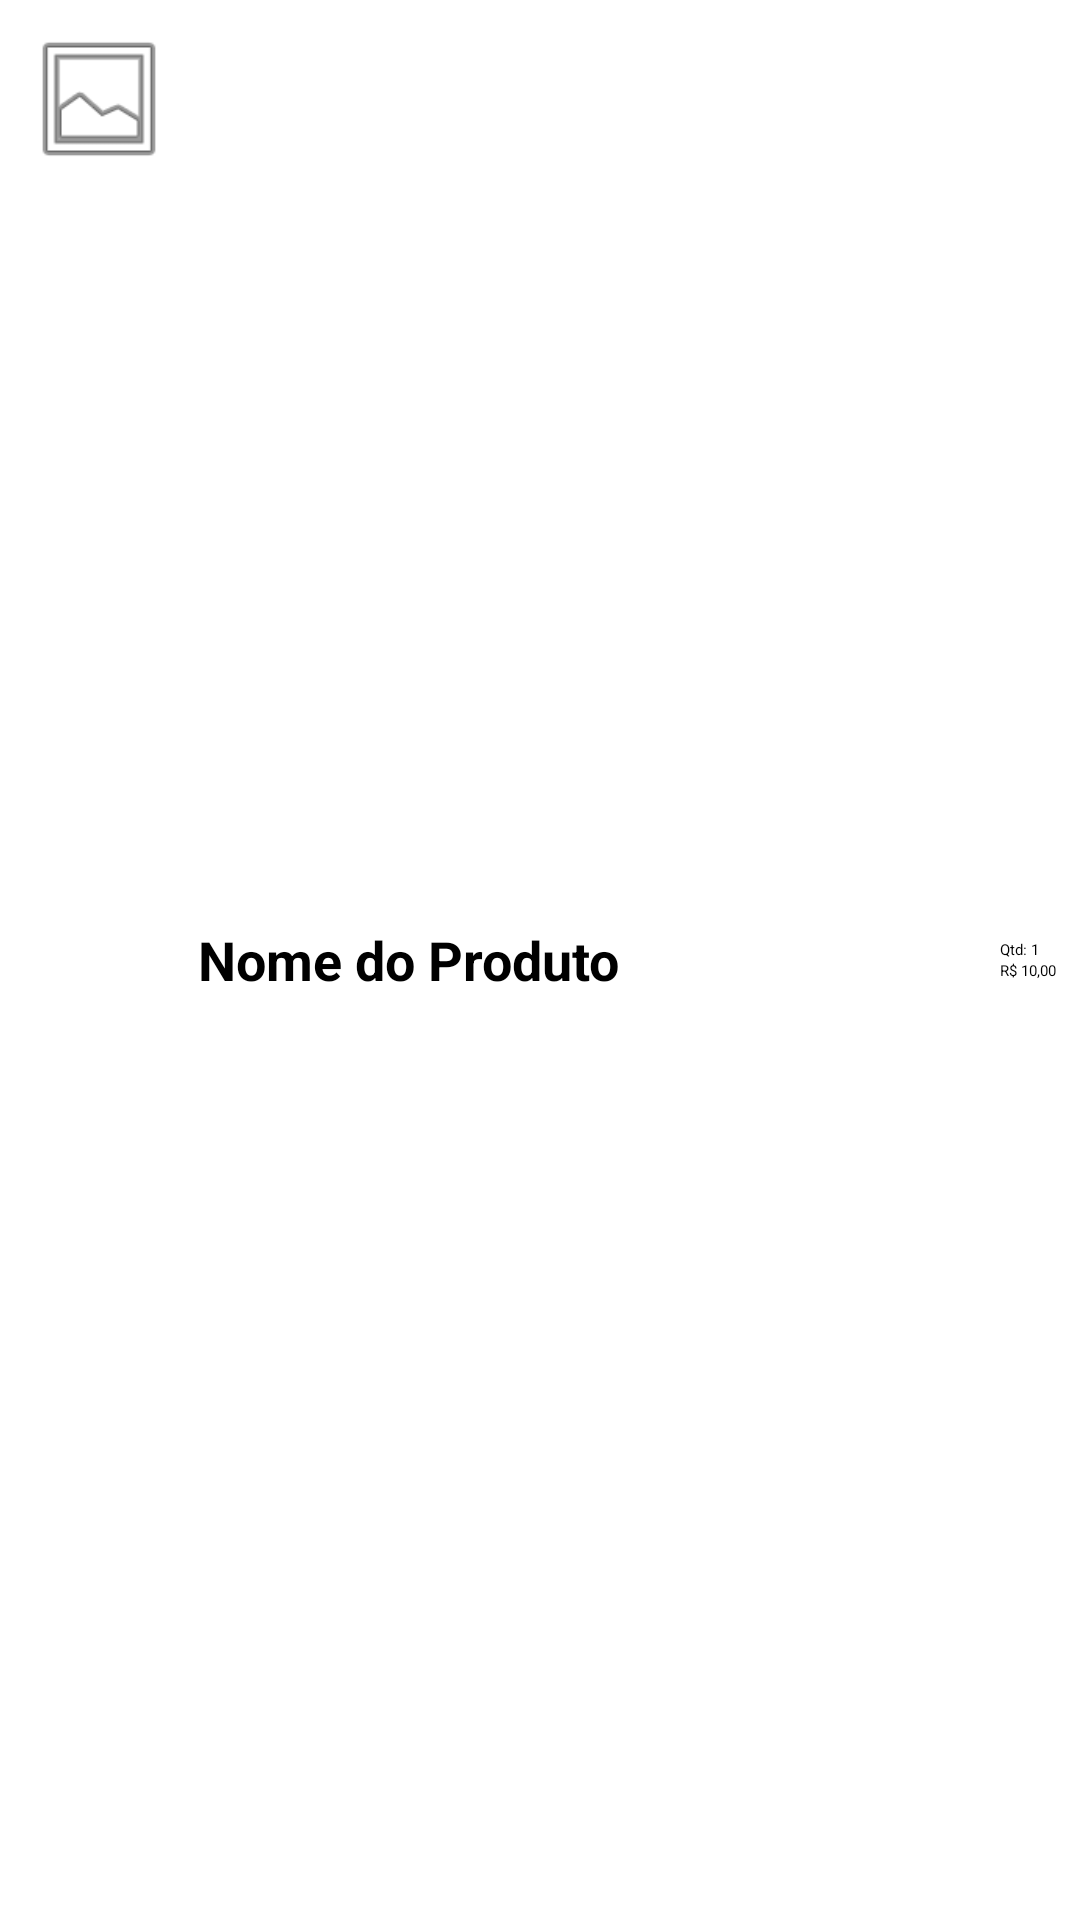

Where icons sit on this 1080×1920 app screen, as (x1, y1, x2, y2):
gallery: (42, 42, 156, 156)
